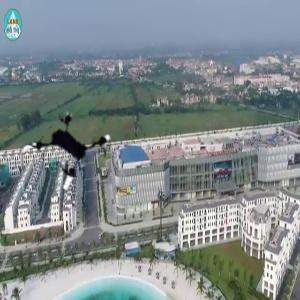drone: (20, 107, 114, 201)
